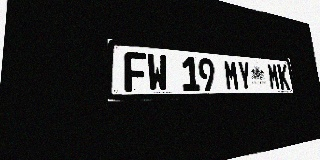1: (181, 56, 200, 91)
9: (198, 57, 216, 91)
F: (124, 51, 147, 92)
K: (277, 64, 290, 90)
M: (223, 59, 240, 91), (267, 63, 281, 90)
W: (146, 53, 168, 92)
Y: (237, 61, 252, 90)
